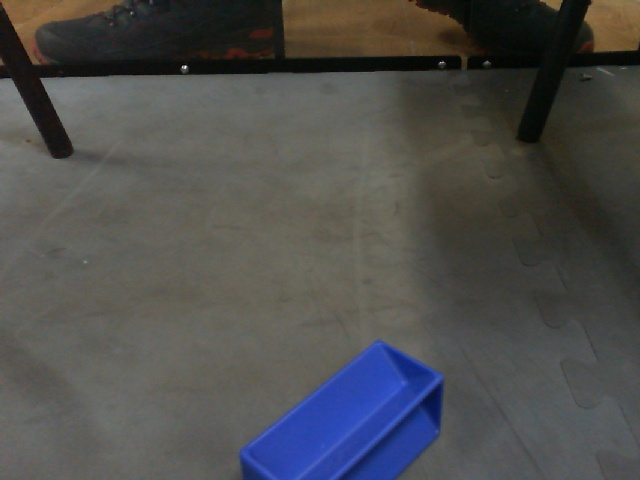BlueSample: (233, 335, 451, 480)
